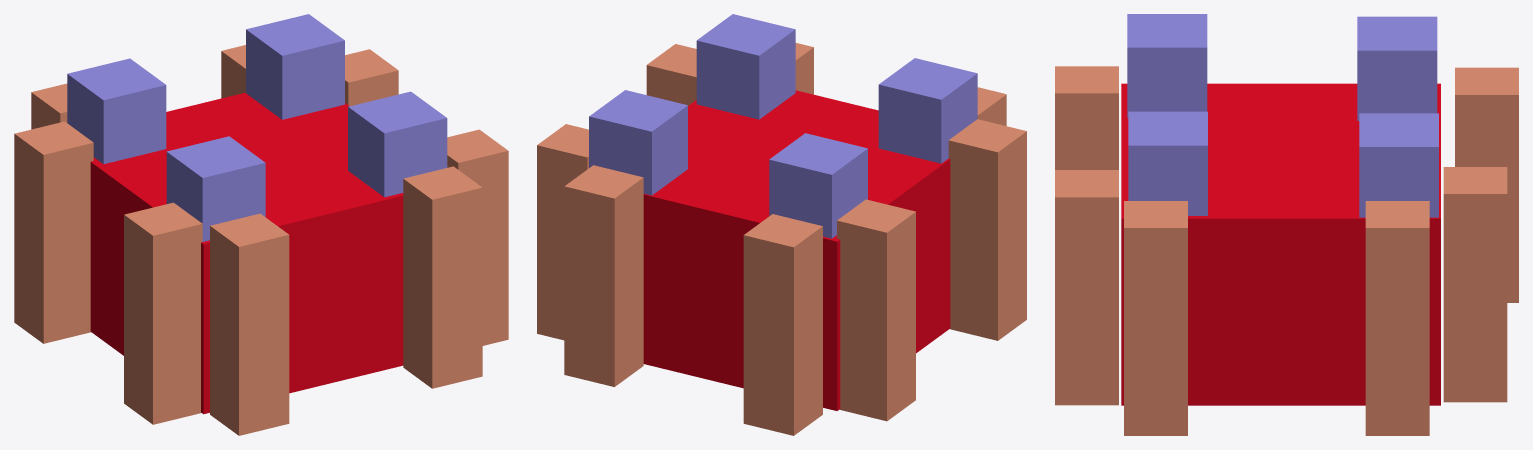
Rendered from redmain.glb.
The picture shows the model from 3 angles, left to right: view 1: azimuth 30°, elevation 25°; view 2: azimuth 150°, elevation 25°; view 3: azimuth 270°, elevation 25°; orthographic projection. The views are drawn at different scales.
Visible parts, largest first — view 1: Cube, Cube.008, Cube.009, Cube.012, Cube.010, Cube.001, Cube.003, Cube.004, Cube.002, Cube.006, Cube.007, Cube.011 (+1 smaller); view 2: Cube, Cube.005, Cube.011, Cube.010, Cube.012, Cube.004, Cube.002, Cube.001, Cube.003, Cube.007, Cube.006, Cube.009 (+1 smaller); view 3: Cube, Cube.005, Cube.007, Cube.008, Cube.006, Cube.011, Cube.003, Cube.002, Cube.004, Cube.001, Cube.009.
Boxes of the visible parts, left/top/right/bottom form: Cube: left=90, top=92, right=403, bottom=414; Cube.008: left=403, top=166, right=482, bottom=388; Cube.009: left=210, top=213, right=289, bottom=435; Cube.012: left=14, top=121, right=93, bottom=343; Cube.010: left=124, top=202, right=202, bottom=424; Cube.001: left=246, top=14, right=344, bottom=119; Cube.003: left=67, top=58, right=166, bottom=164; Cube.004: left=348, top=91, right=447, bottom=197; Cube.002: left=166, top=136, right=265, bottom=241; Cube.006: left=447, top=129, right=508, bottom=345; Cube.007: left=345, top=49, right=398, bottom=106; Cube.011: left=31, top=83, right=67, bottom=129; Cube: left=643, top=90, right=950, bottom=410; Cube.005: left=564, top=165, right=643, bottom=386; Cube.011: left=743, top=214, right=822, bottom=435; Cube.010: left=948, top=119, right=1026, bottom=340; Cube.012: left=837, top=199, right=915, bottom=421; Cube.004: left=696, top=14, right=795, bottom=119; Cube.002: left=878, top=58, right=977, bottom=163; Cube.001: left=589, top=90, right=687, bottom=195; Cube.003: left=769, top=133, right=867, bottom=238; Cube.007: left=537, top=124, right=588, bottom=340; Cube.006: left=646, top=44, right=696, bottom=105; Cube.009: left=977, top=87, right=1006, bottom=125; Cube: left=1121, top=83, right=1440, bottom=405; Cube.005: left=1443, top=167, right=1507, bottom=402; Cube.007: left=1365, top=201, right=1429, bottom=435; Cube.008: left=1055, top=170, right=1118, bottom=405; Cube.006: left=1124, top=201, right=1187, bottom=435; Cube.011: left=1455, top=67, right=1518, bottom=302; Cube.003: left=1357, top=16, right=1437, bottom=120; Cube.002: left=1127, top=14, right=1207, bottom=118; Cube.004: left=1128, top=111, right=1207, bottom=215; Cube.001: left=1359, top=113, right=1438, bottom=217; Cube.009: left=1055, top=66, right=1118, bottom=169.
Size of the model in its own units: 45.06 by 28.58 by 46.46.
